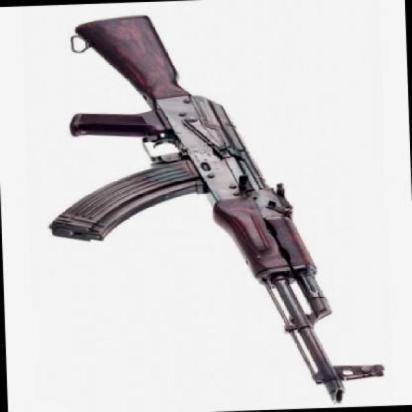Gun: (38, 11, 350, 411)
